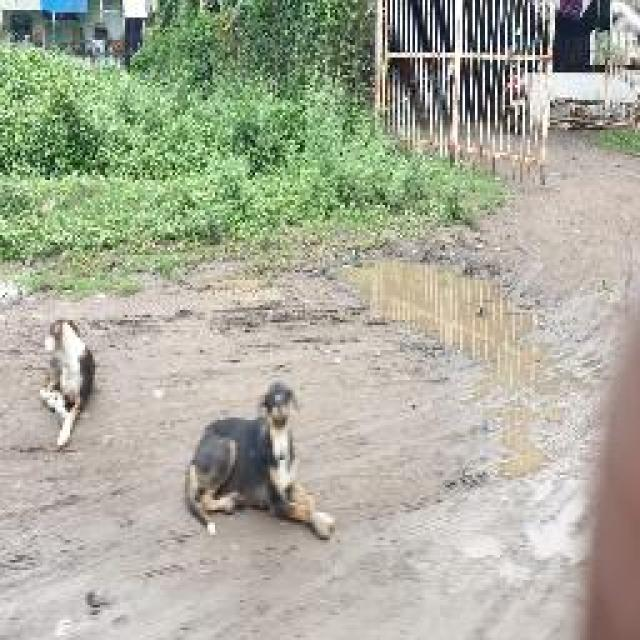puddle: (365, 259, 532, 375)
